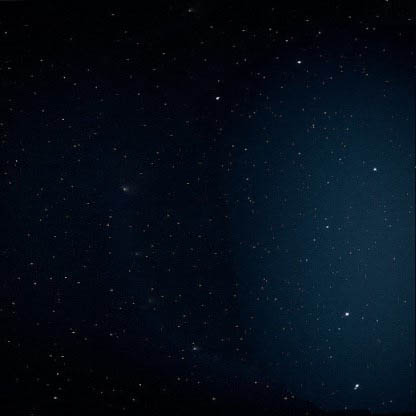Ursa Major: (205, 86, 233, 113), (333, 302, 361, 328), (338, 374, 366, 400), (316, 215, 338, 240), (361, 154, 382, 180), (286, 49, 308, 73)
